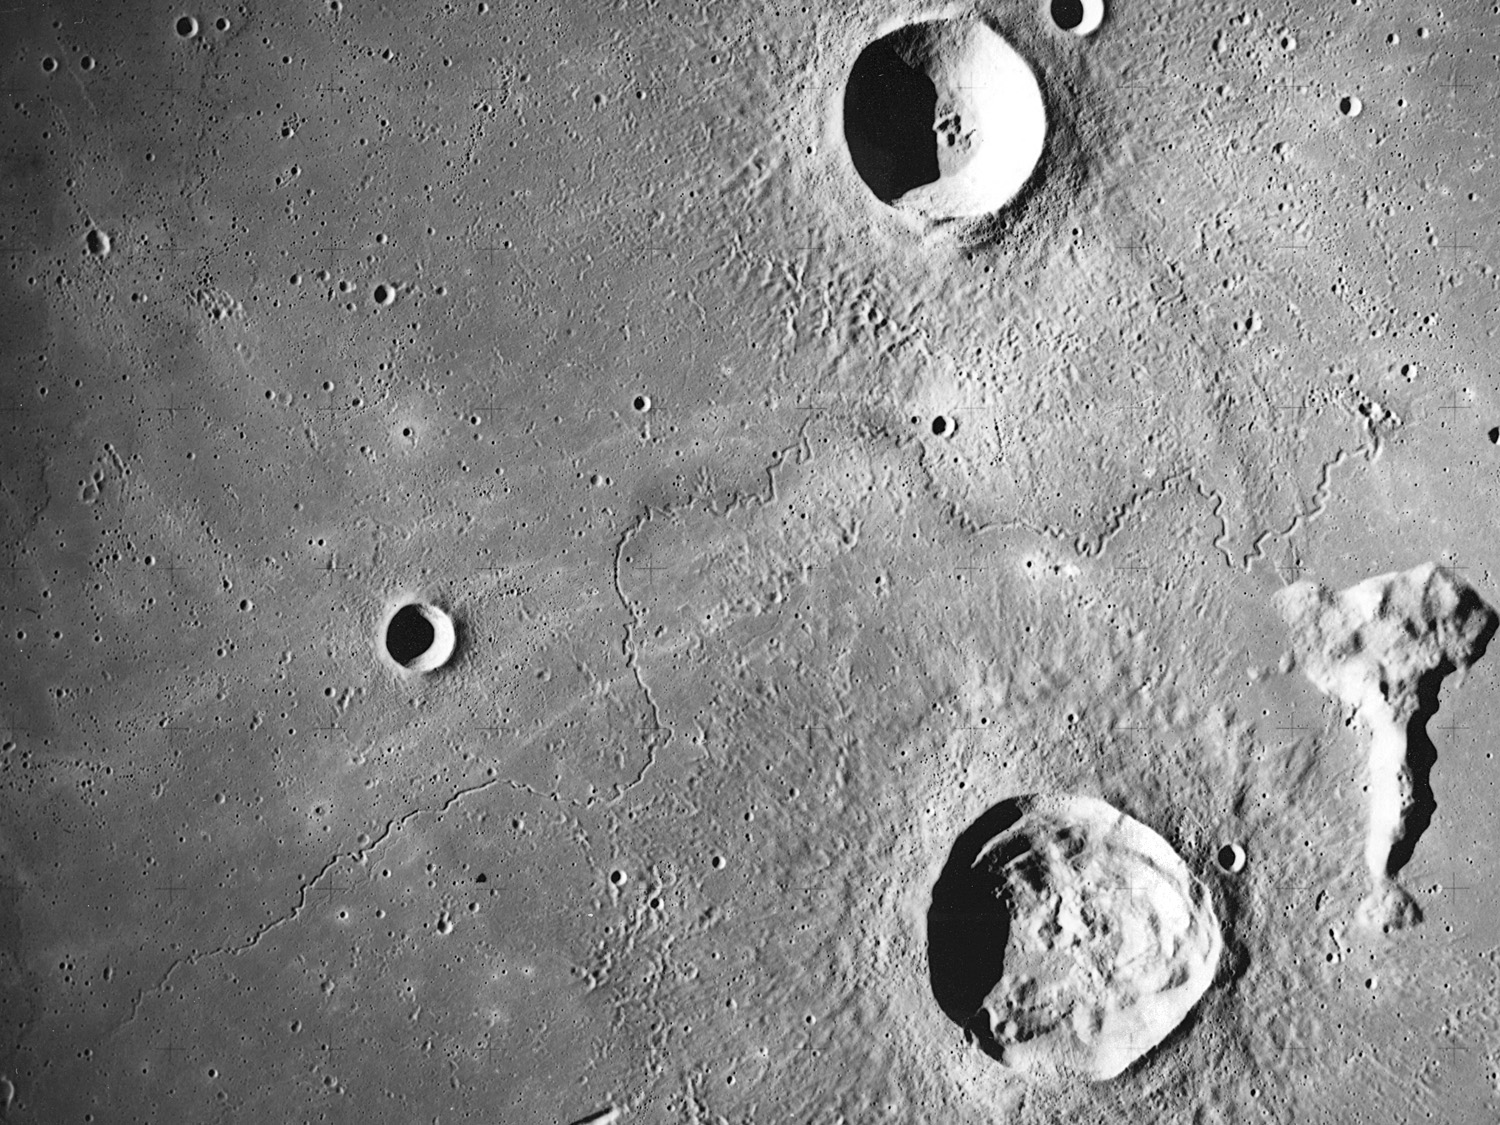crater: (800, 694, 1292, 1113), (800, 4, 1069, 264), (309, 562, 569, 763), (920, 372, 1007, 486), (617, 379, 681, 433), (1320, 80, 1374, 134)
